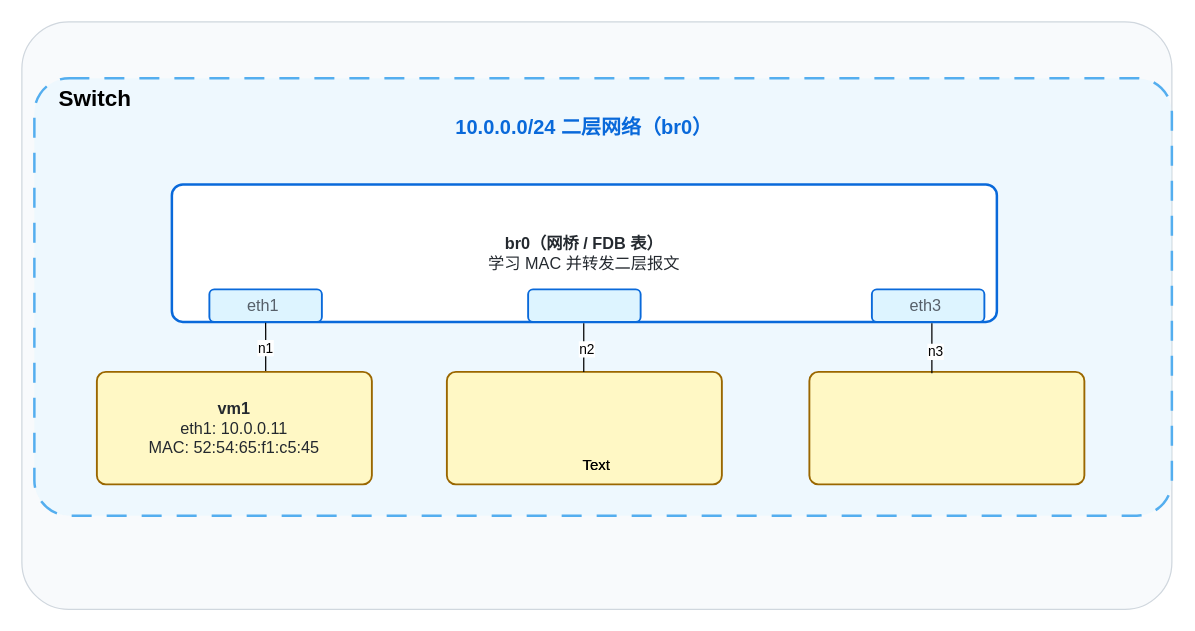
This 1195x631 diagram has some shape labels left out. The shapes that lost their labels are listed below. From the top down, each one's box as (x1, y1, x2, y2) in pixels, then its label:
(527, 288, 641, 322): eth2
(445, 370, 722, 485): vm2 eth1: 10.0.0.12 MAC: 52:54:65:12:a7:d0
(808, 370, 1085, 485): vm3 eth1: 10.0.0.13 MAC: 52:54:65:46:10:a1
